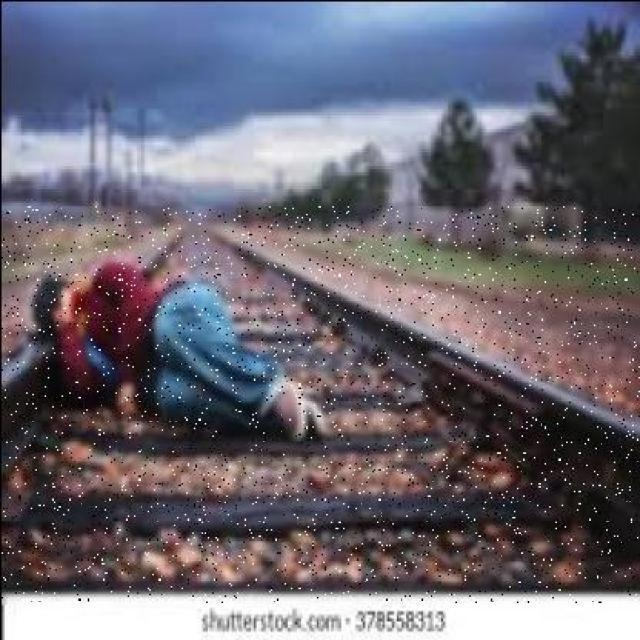danger: (28, 264, 318, 452)
rail: (0, 205, 638, 602)
